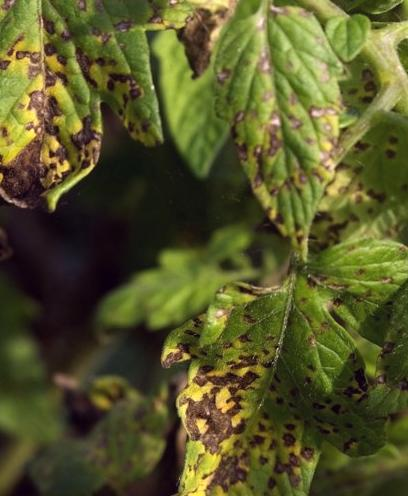Tomato Septoria leaf spot: (134, 288, 372, 496), (0, 0, 223, 194), (211, 0, 342, 265)
